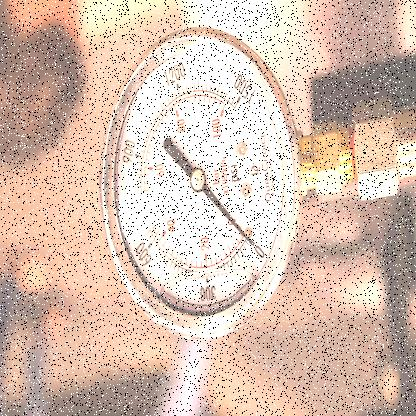needle: (202, 184, 253, 246)
